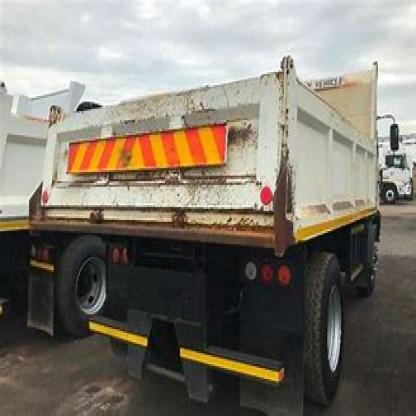dump_truck: (44, 26, 394, 414)
